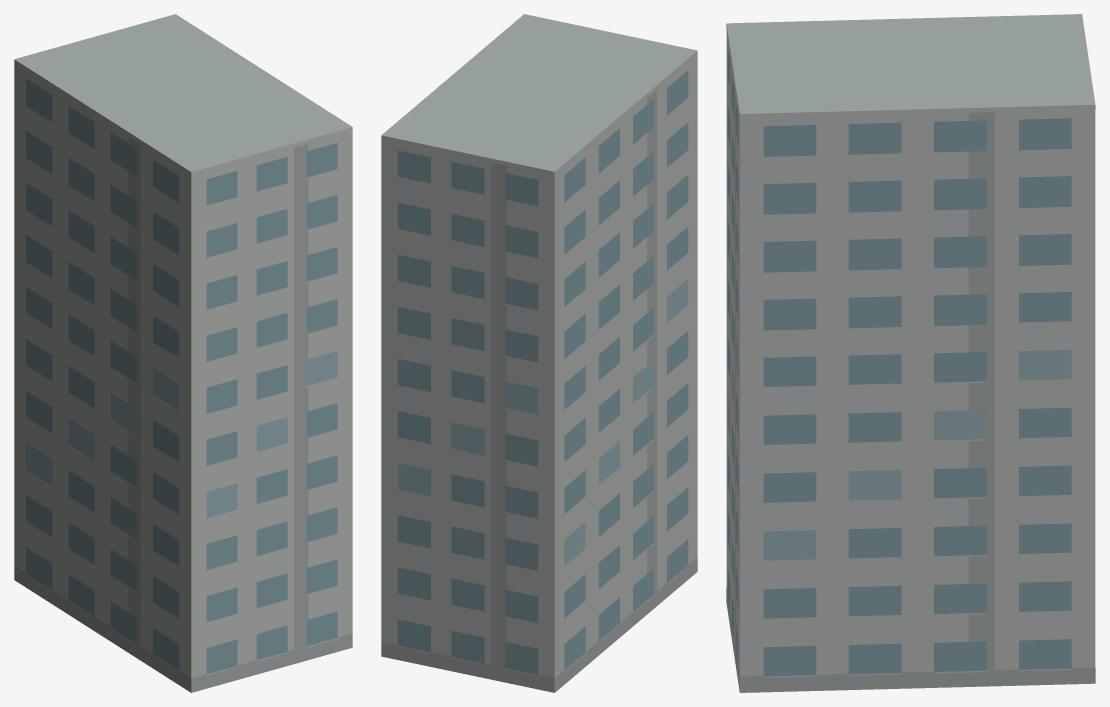
Rendered from survey-upis-32744884.glb.
The picture shows the model from 3 angles, left to right: view 1: azimuth 30°, elevation 25°; view 2: azimuth 150°, elevation 25°; view 3: azimuth 270°, elevation 25°; orthographic projection. The views are drawn at different scales.
Visible parts, largest first — view 1: survey-upis-32744884.tmp; view 2: survey-upis-32744884.tmp; view 3: survey-upis-32744884.tmp.
Part boxes in pixels (<box>): survey-upis-32744884.tmp: <box>14,14,352,692</box>; survey-upis-32744884.tmp: <box>381,14,697,692</box>; survey-upis-32744884.tmp: <box>726,14,1095,692</box>.
Bounding box in the file's own units: 10.98 × 29.6 × 17.11.
